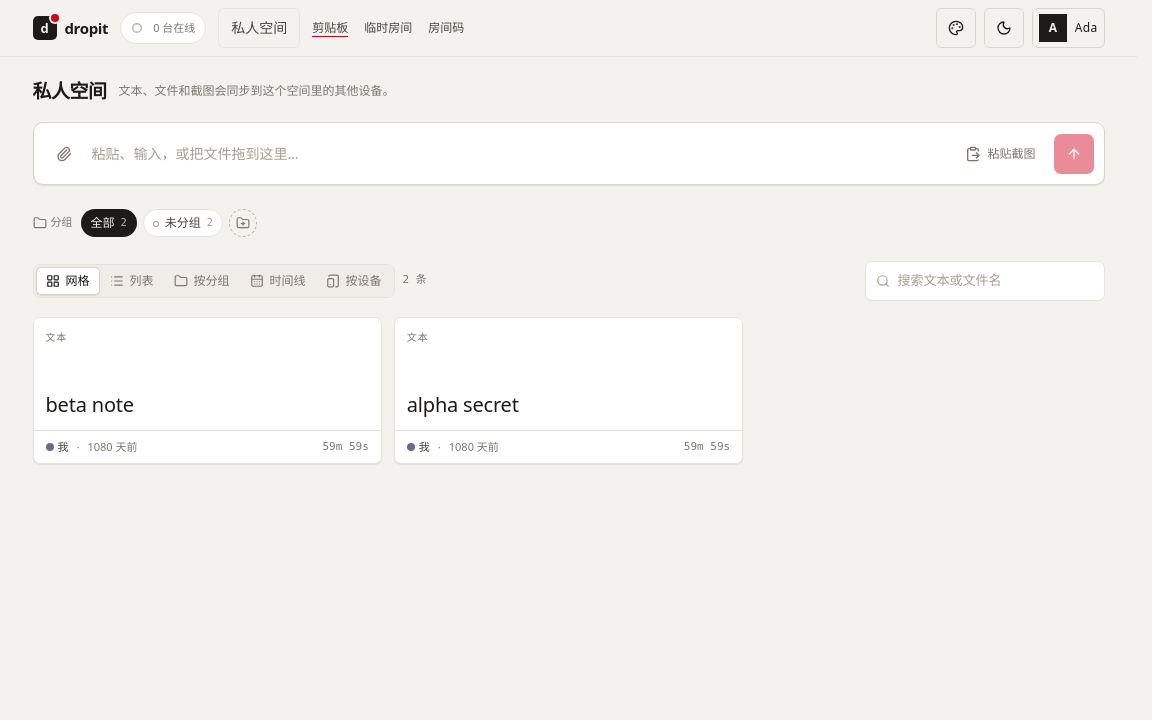
Test case: dropit web › opens the command palette with Ctrl+K and jumps to a clip
Expected: the button named "发送" is shown, [1054,134,1094,174]
Expected: the text "alpha secret" is shown, [407,390,519,418]
Press k
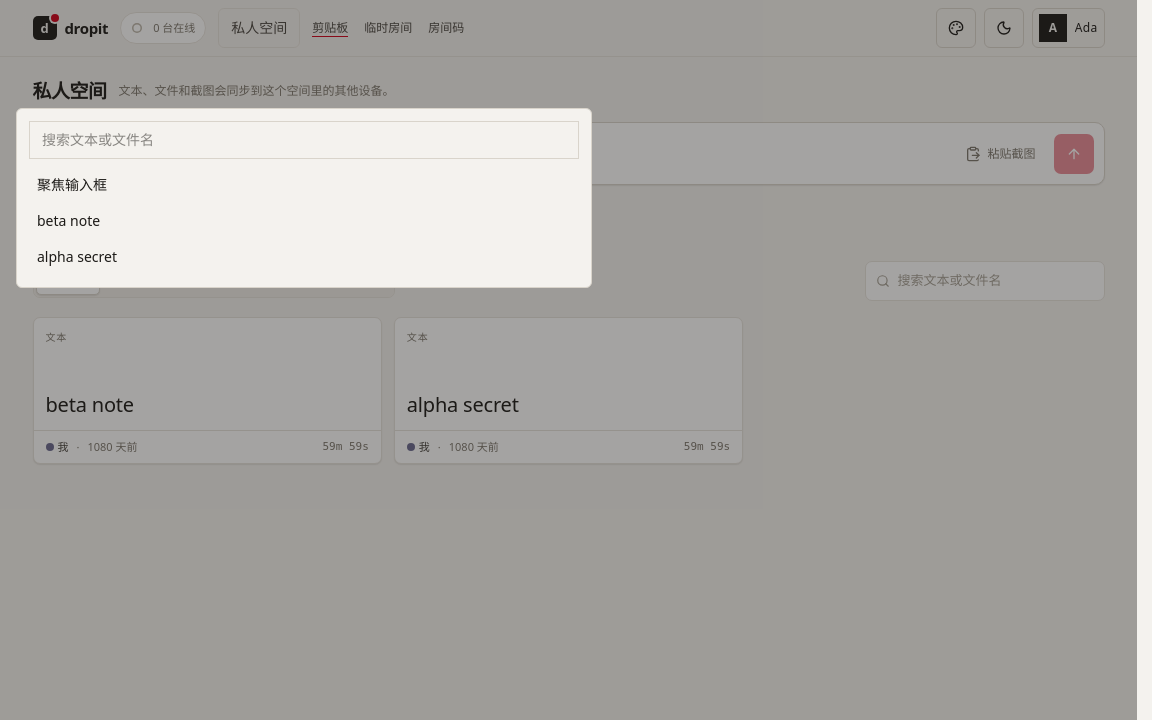
Expected: the dialog named "命令面板" is shown, [16,108,592,288]
Type "上线" into the field named "搜索内容" at (304, 140), box [29,121,579,159]
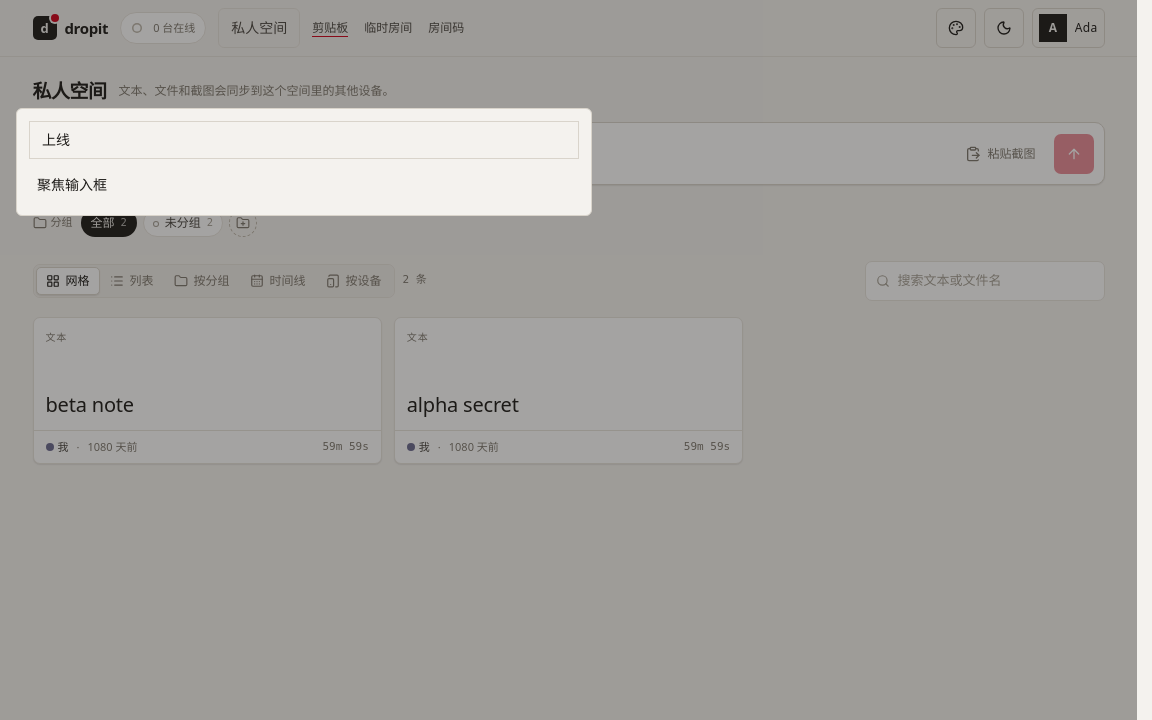
Replace the text in the field named "搜索内容" with "beta" at (304, 140), box [29,121,579,159]
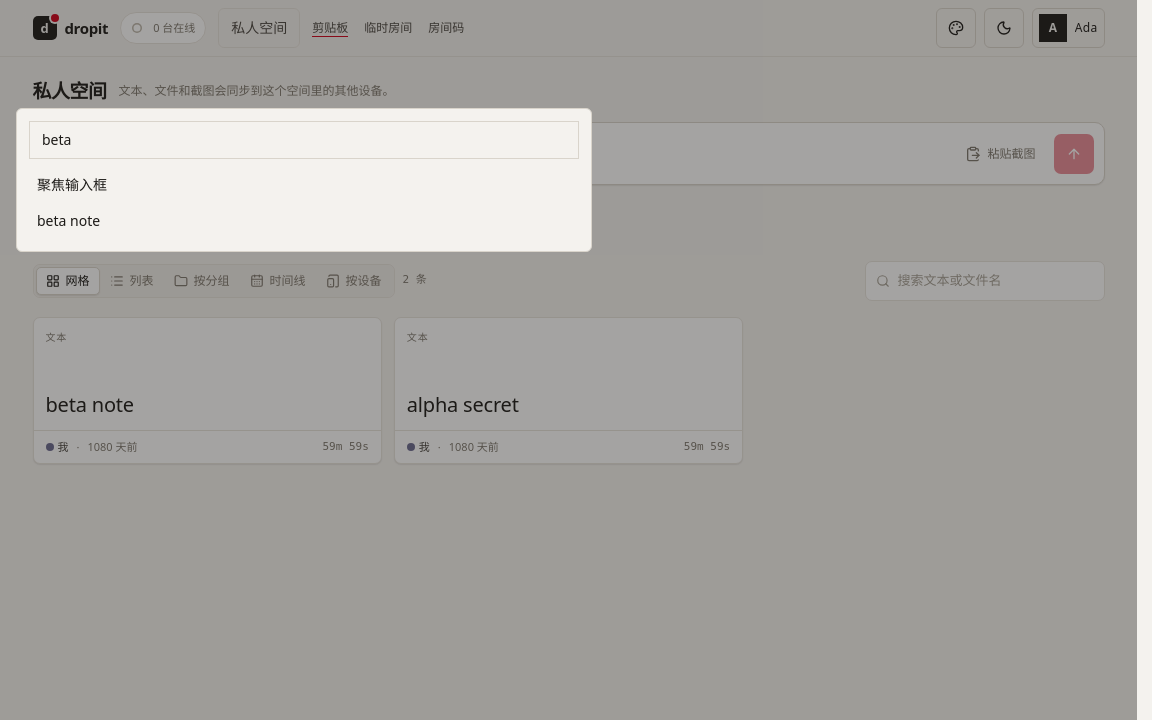
Click the button "beta note" at (69, 220), box [29,203,579,239]
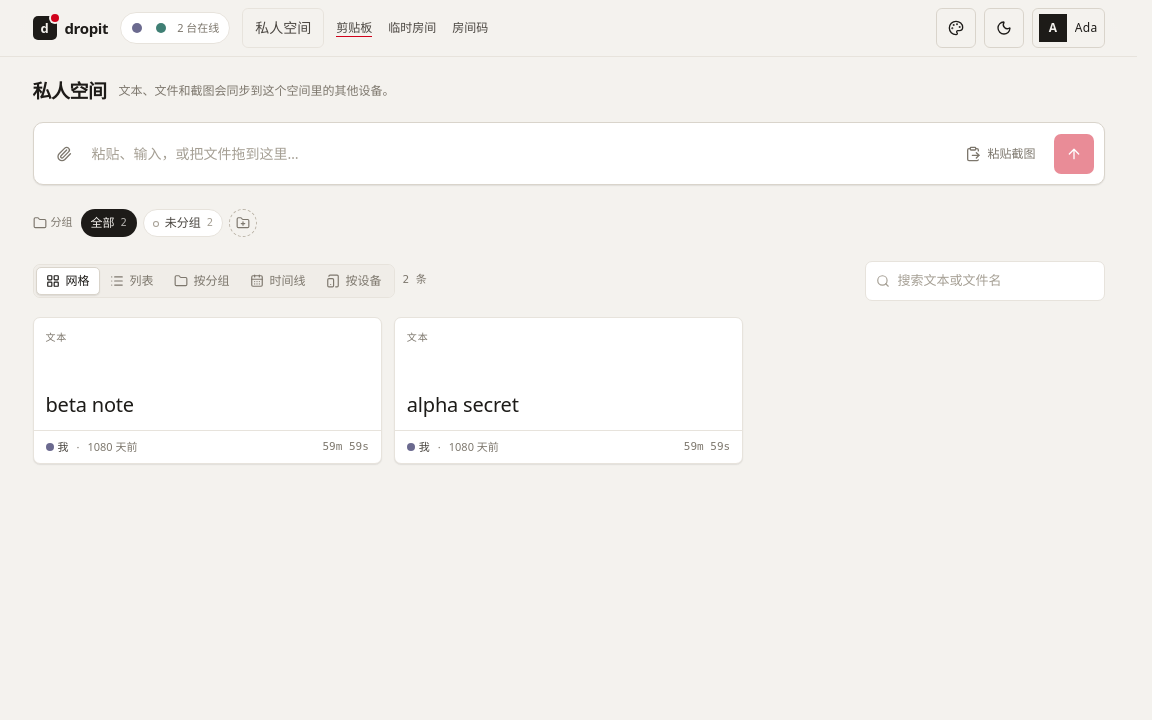
Expected: the dialog "命令面板" is gone
Expected: the message named "2 台设备在线" is shown, [120,12,230,44]
